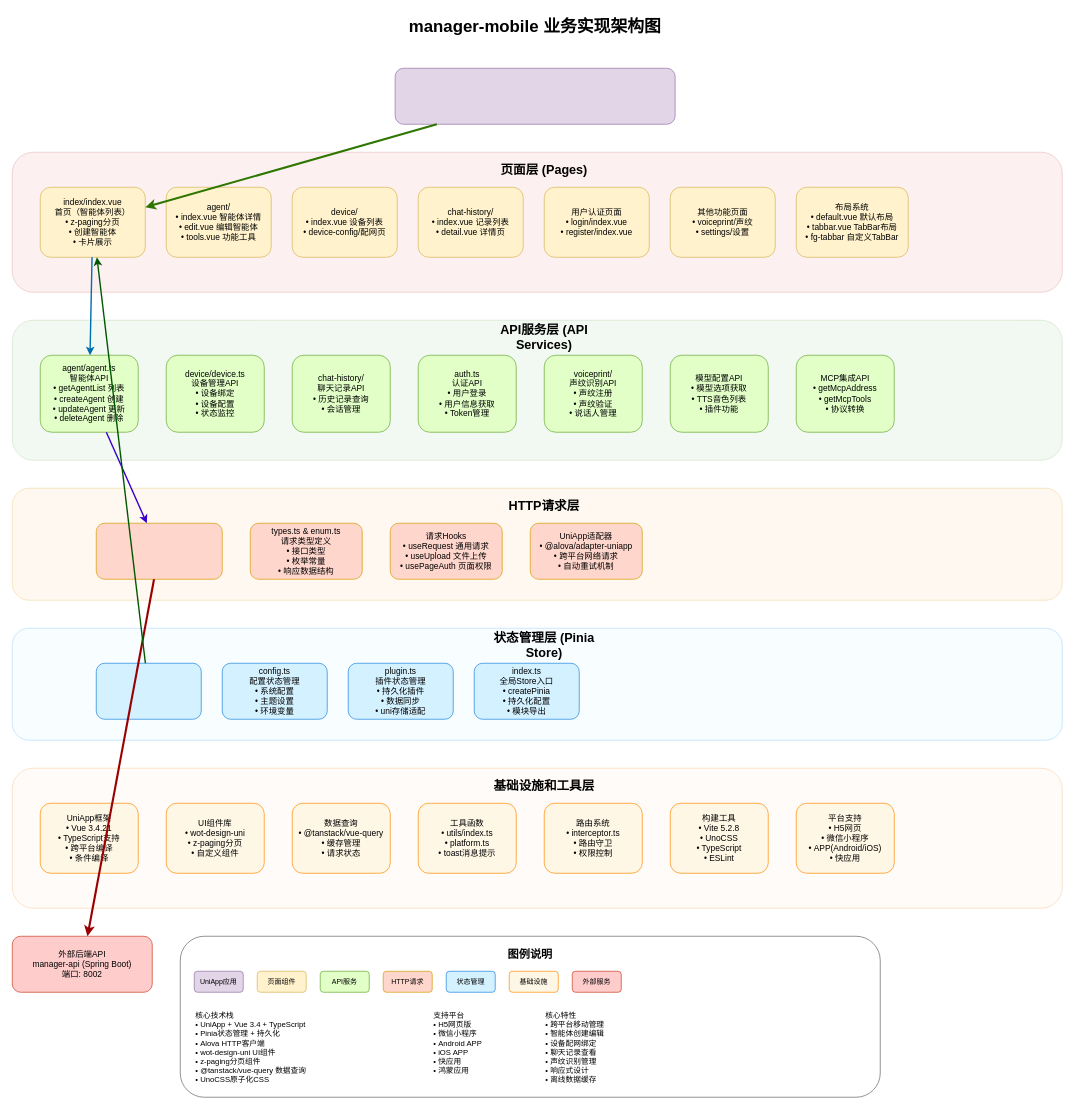
The diagram is 1075 pixels wide and 1110 high, and some of its shapes have lost their labels. The box of each missing label's shape, as (x1, y1, x2, y2) in pixels:
alova.ts HTTP客户端封装 • Alova适配器 • 请求拦截器 • 响应处理 • 错误统一处理: (96, 523, 222, 579)
UniApp 跨平台移动应用 • Vue 3.4 + TypeScript • Pinia状态管理 • 多端兼容（H5/小程序/APP）: (394, 68, 675, 124)
user.ts 用户状态管理 • userInfo 用户信息 • setUserInfo 设置信息 • logout 退出登录 • 持久化存储: (96, 663, 201, 719)
